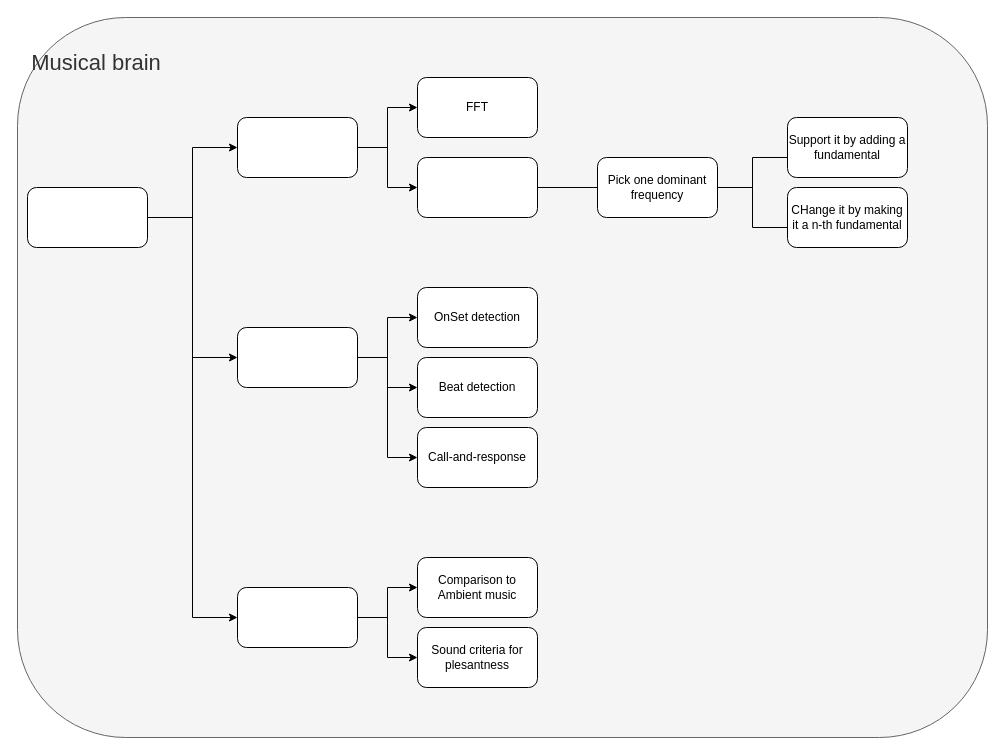
Some shapes in this 1005 by 755 pixel diagram are drawn without their labels. The shapes that lost their labels are listed below. From the top down, each one's box as (x1, y1, x2, y2) in pixels, then its label:
(236, 116, 358, 178): Harmonic content
(416, 156, 538, 218): Harmonic series
(26, 186, 148, 248): Sound analysis
(236, 326, 358, 388): Loud events
(236, 586, 358, 648): Sound classification
